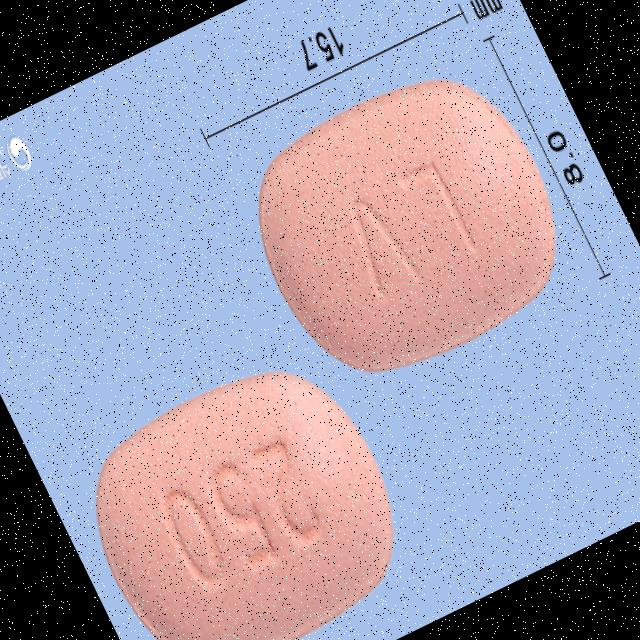Lexacin: (224, 46, 594, 404), (60, 341, 429, 640)
